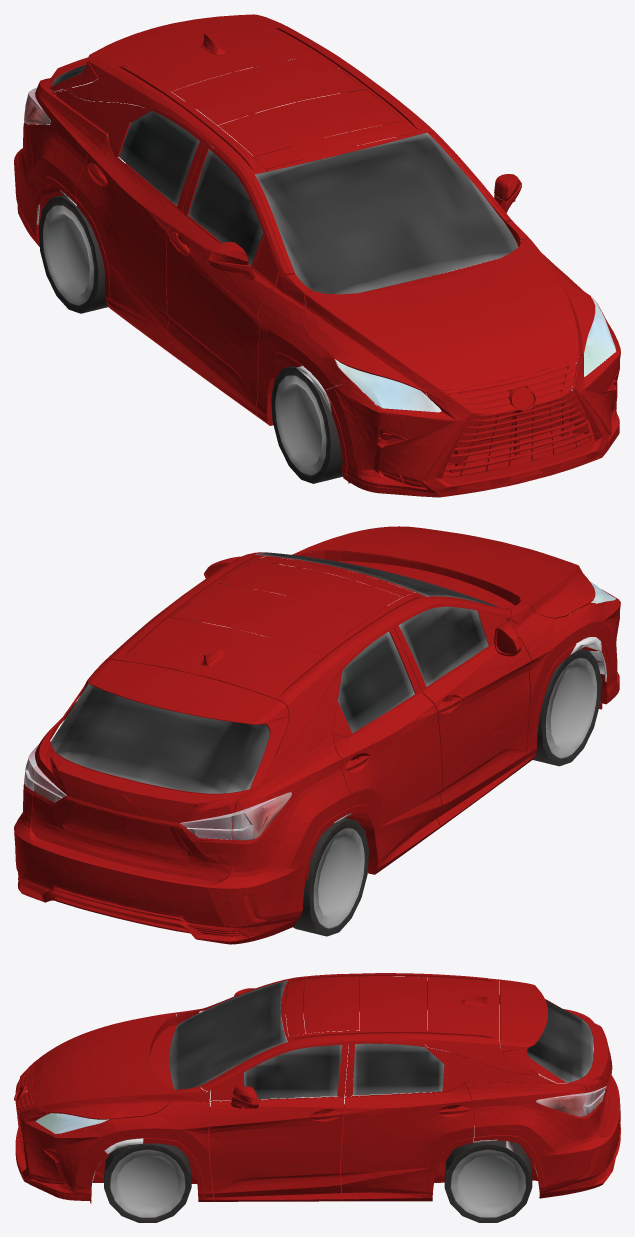
File: lexus_lod.glb
The picture shows the model from 3 angles, top to bottom: view 1: azimuth 30°, elevation 25°; view 2: azimuth 150°, elevation 25°; view 3: azimuth 270°, elevation 25°; orthographic projection. The views are drawn at different scales.
Parts seen in each view (by area): view 1: body_paint, body_material0, wheel_rr_material0, wheel_fr_material0; view 2: body_paint, body_material0, wheel_rr_material0, wheel_fr_material0; view 3: body_paint, body_material0, wheel_rl_material0, wheel_fl_material0.
Boxes of the visible parts, bbox=[...] form: body_paint: bbox=[14, 14, 620, 497]; body_material0: bbox=[24, 60, 616, 478]; wheel_rr_material0: bbox=[36, 190, 108, 313]; wheel_fr_material0: bbox=[280, 365, 376, 483]; body_paint: bbox=[14, 526, 620, 944]; body_material0: bbox=[24, 552, 615, 840]; wheel_rr_material0: bbox=[293, 813, 368, 936]; wheel_fr_material0: bbox=[550, 637, 606, 761]; body_paint: bbox=[14, 973, 620, 1203]; body_material0: bbox=[36, 976, 606, 1222]; wheel_rl_material0: bbox=[444, 1125, 537, 1222]; wheel_fl_material0: bbox=[92, 1138, 178, 1222].
Bounding box in the file's own units: 2.13 × 1.58 × 4.87.
2 materials, 1 textured.
